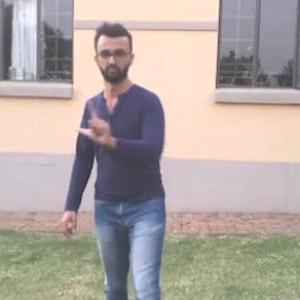land_hand: (75, 98, 119, 149)
